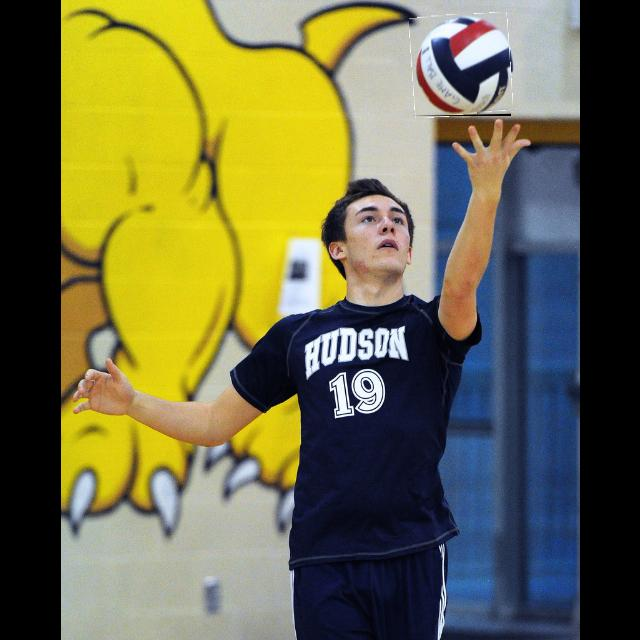Football: (411, 14, 511, 116)
